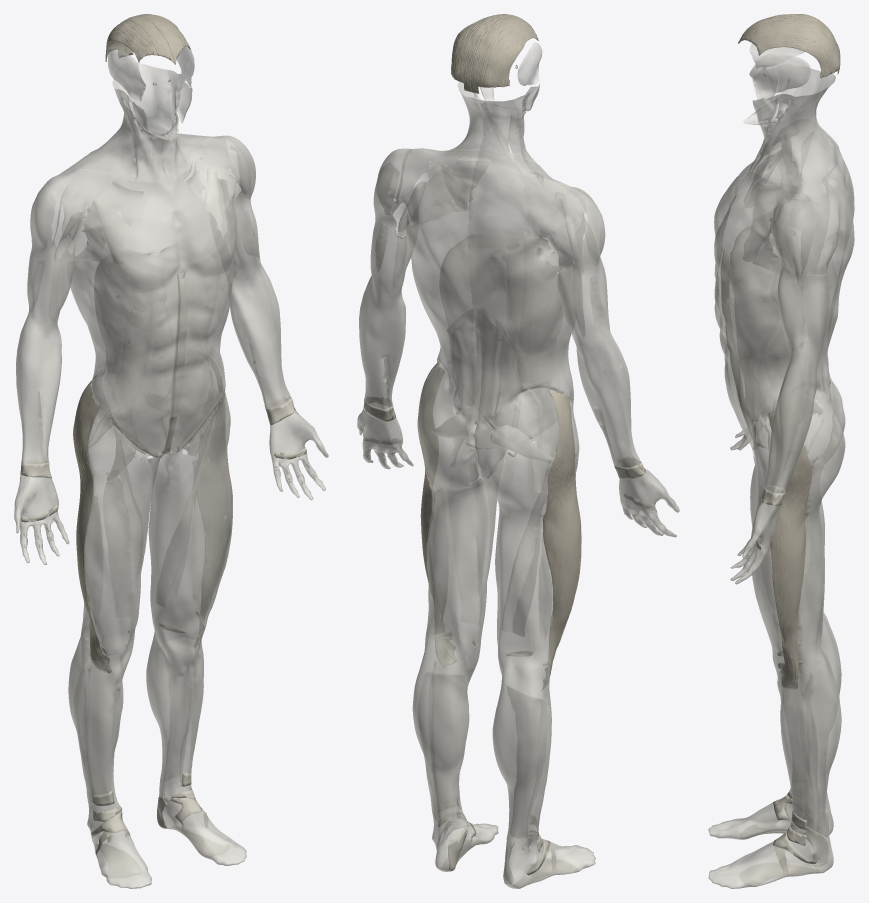
File: adult_male.fascia.LOD0.glb
3 renders of one model, left to right at view 1: azimuth 30°, elevation 25°; view 2: azimuth 150°, elevation 25°; view 3: azimuth 270°, elevation 25°, orthographic. The views are drawn at different scales.
Parts seen in each view (by area): view 1: ADULT.MALE.FASCIA.INVESTING_ABDOMINAL_FASCIA.R, ADULT.MALE.FASCIA.FASCIA_LATA.L, ADULT.MALE.FASCIA.INVESTING_ABDOMINAL_FASCIA.L, ADULT.MALE.FASCIA.FASCIA_LATA.R, ADULT.MALE.FASCIA.TRANSVERSALIS_FASCIA, ADULT.MALE.FASCIA.CRURAL_FASCIA.L, ADULT.MALE.FASCIA.CRURAL_FASCIA.R, ADULT.MALE.FASCIA.PECTORAL_FASCIA.R, ADULT.MALE.FASCIA.DIAPHRAGMATIC_FASCIA, ADULT.MALE.FASCIA.PECTORAL_FASCIA.L, ADULT.MALE.FASCIA.ILIOTIBIAL_TRACT.L, ADULT.MALE.FASCIA.ANTEBRACHIAL_FASCIA.R (+29 smaller); view 2: ADULT.MALE.FASCIA.INVESTING_ABDOMINAL_FASCIA.R, ADULT.MALE.FASCIA.FASCIA_LATA.R, ADULT.MALE.FASCIA.FASCIA_LATA.L, ADULT.MALE.FASCIA.CRURAL_FASCIA.R, ADULT.MALE.FASCIA.INVESTING_ABDOMINAL_FASCIA.L, ADULT.MALE.FASCIA.DIAPHRAGMATIC_FASCIA, ADULT.MALE.FASCIA.CRURAL_FASCIA.L, ADULT.MALE.FASCIA.SUPERFICIAL_INVESTING_CERVICAL_FASCIA.R, ADULT.MALE.FASCIA.ILIOTIBIAL_TRACT.R, ADULT.MALE.FASCIA.SUPERFICIAL_INVESTING_CERVICAL_FASCIA.L, ADULT.MALE.FASCIA.MEDIAL_FEMORAL_INTERMUSCULAR_SEPTUM.L, ADULT.MALE.FASCIA.ANTEBRACHIAL_FASCIA.R (+32 smaller); view 3: ADULT.MALE.FASCIA.CRURAL_FASCIA.L, ADULT.MALE.FASCIA.INVESTING_ABDOMINAL_FASCIA.L, ADULT.MALE.FASCIA.FASCIA_LATA.L, ADULT.MALE.FASCIA.ILIOTIBIAL_TRACT.L, ADULT.MALE.FASCIA.SUPERFICIAL_INVESTING_CERVICAL_FASCIA.L, ADULT.MALE.FASCIA.INVESTING_ABDOMINAL_FASCIA.R, ADULT.MALE.FASCIA.DELTOID_FASCIA.L, ADULT.MALE.FASCIA.PECTORAL_FASCIA.L, ADULT.MALE.FASCIA.ANTEBRACHIAL_FASCIA.L, ADULT.MALE.FASCIA.DIAPHRAGMATIC_FASCIA, ADULT.MALE.FASCIA.SUPERFICIAL_INVESTING_CERVICAL_FASCIA.R, ADULT.MALE.FASCIA.BRACHIAL_FASCIA.L (+26 smaller).
Boxes of the visible parts, x1,y1,x2,y2 form: ADULT.MALE.FASCIA.INVESTING_ABDOMINAL_FASCIA.R: (57, 165, 184, 456); ADULT.MALE.FASCIA.FASCIA_LATA.L: (140, 378, 232, 637); ADULT.MALE.FASCIA.INVESTING_ABDOMINAL_FASCIA.L: (123, 143, 233, 452); ADULT.MALE.FASCIA.FASCIA_LATA.R: (73, 370, 165, 658); ADULT.MALE.FASCIA.TRANSVERSALIS_FASCIA: (102, 275, 219, 452); ADULT.MALE.FASCIA.CRURAL_FASCIA.L: (146, 610, 246, 865); ADULT.MALE.FASCIA.CRURAL_FASCIA.R: (68, 628, 151, 888); ADULT.MALE.FASCIA.PECTORAL_FASCIA.R: (78, 178, 182, 294); ADULT.MALE.FASCIA.DIAPHRAGMATIC_FASCIA: (94, 243, 218, 352); ADULT.MALE.FASCIA.PECTORAL_FASCIA.L: (168, 158, 237, 274); ADULT.MALE.FASCIA.ILIOTIBIAL_TRACT.L: (194, 357, 232, 651); ADULT.MALE.FASCIA.ANTEBRACHIAL_FASCIA.R: (16, 315, 61, 463); ADULT.MALE.FASCIA.INVESTING_ABDOMINAL_FASCIA.R: (468, 206, 579, 425); ADULT.MALE.FASCIA.FASCIA_LATA.R: (474, 388, 581, 676); ADULT.MALE.FASCIA.FASCIA_LATA.L: (417, 363, 506, 656); ADULT.MALE.FASCIA.CRURAL_FASCIA.R: (492, 657, 595, 888); ADULT.MALE.FASCIA.INVESTING_ABDOMINAL_FASCIA.L: (401, 177, 529, 424); ADULT.MALE.FASCIA.DIAPHRAGMATIC_FASCIA: (439, 234, 564, 353); ADULT.MALE.FASCIA.CRURAL_FASCIA.L: (412, 640, 498, 871); ADULT.MALE.FASCIA.SUPERFICIAL_INVESTING_CERVICAL_FASCIA.R: (469, 86, 570, 216); ADULT.MALE.FASCIA.ILIOTIBIAL_TRACT.R: (541, 390, 581, 690); ADULT.MALE.FASCIA.SUPERFICIAL_INVESTING_CERVICAL_FASCIA.L: (399, 81, 519, 208); ADULT.MALE.FASCIA.MEDIAL_FEMORAL_INTERMUSCULAR_SEPTUM.L: (448, 424, 489, 625); ADULT.MALE.FASCIA.ANTEBRACHIAL_FASCIA.R: (575, 329, 640, 467); ADULT.MALE.FASCIA.CRURAL_FASCIA.L: (708, 645, 841, 888); ADULT.MALE.FASCIA.INVESTING_ABDOMINAL_FASCIA.L: (714, 186, 854, 448); ADULT.MALE.FASCIA.FASCIA_LATA.L: (751, 388, 845, 673); ADULT.MALE.FASCIA.ILIOTIBIAL_TRACT.L: (768, 395, 812, 689); ADULT.MALE.FASCIA.SUPERFICIAL_INVESTING_CERVICAL_FASCIA.L: (743, 78, 848, 205); ADULT.MALE.FASCIA.INVESTING_ABDOMINAL_FASCIA.R: (714, 158, 854, 439); ADULT.MALE.FASCIA.DELTOID_FASCIA.L: (771, 183, 842, 288); ADULT.MALE.FASCIA.PECTORAL_FASCIA.L: (714, 171, 776, 285); ADULT.MALE.FASCIA.ANTEBRACHIAL_FASCIA.L: (764, 348, 820, 493); ADULT.MALE.FASCIA.DIAPHRAGMATIC_FASCIA: (730, 226, 815, 358); ADULT.MALE.FASCIA.SUPERFICIAL_INVESTING_CERVICAL_FASCIA.R: (743, 64, 848, 179); ADULT.MALE.FASCIA.BRACHIAL_FASCIA.L: (777, 248, 832, 357).
Bounding box in the file's own units: 0.6708 × 1.7 × 0.2685.
